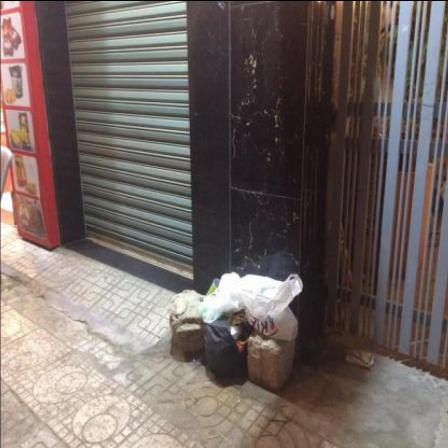Plastic bag - wrapper: (242, 274, 304, 342), (203, 316, 249, 380), (201, 274, 245, 322)
Unlabeled litter: (343, 350, 375, 368), (207, 278, 221, 294), (232, 327, 245, 341)
